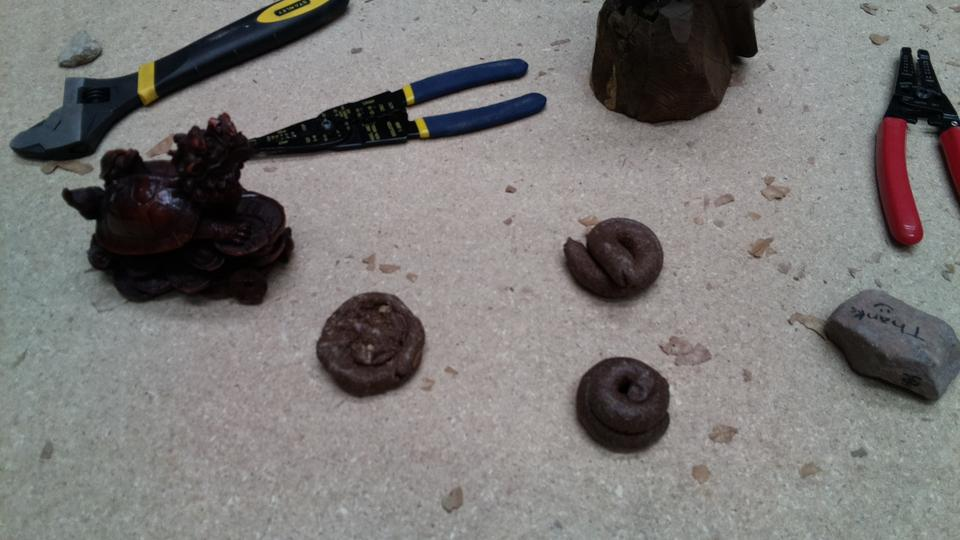poop: (312, 288, 429, 400), (571, 351, 679, 457), (559, 210, 672, 304)
